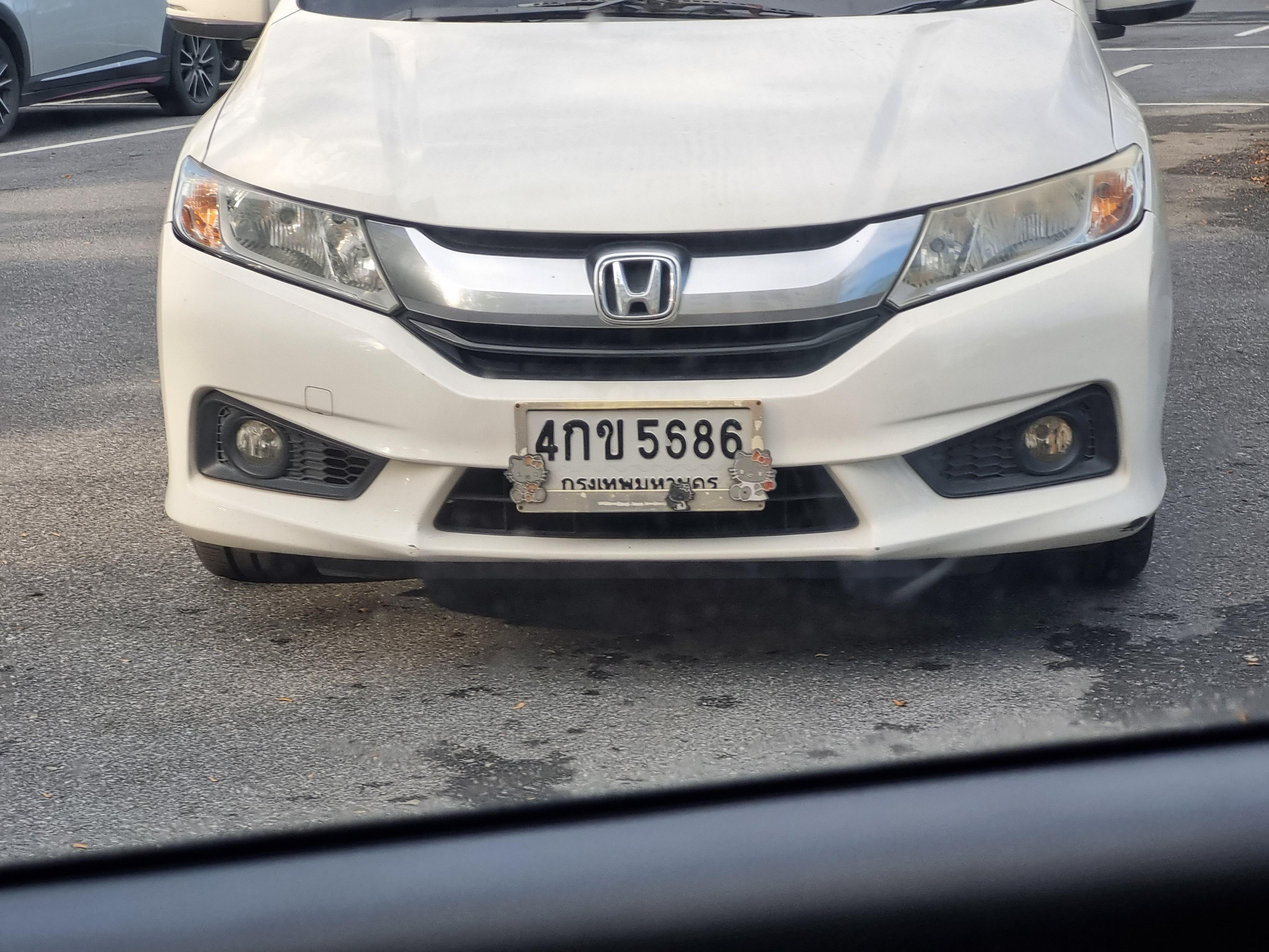license-plate: (509, 395, 776, 525)
